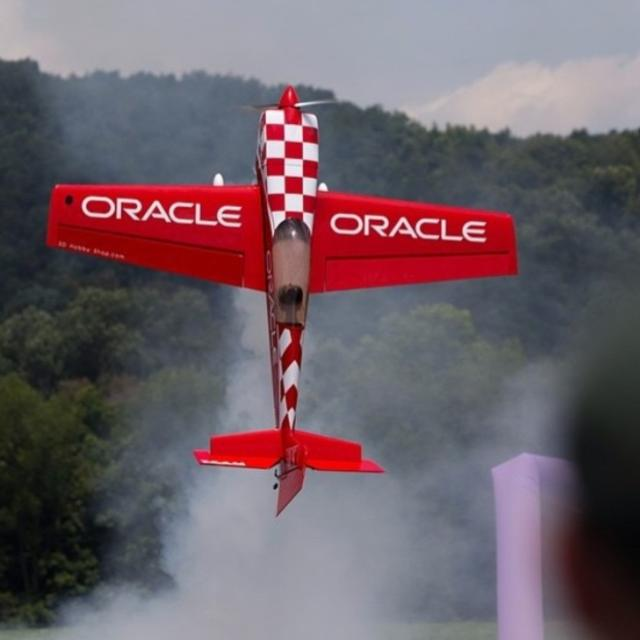iha: (45, 85, 520, 517)
